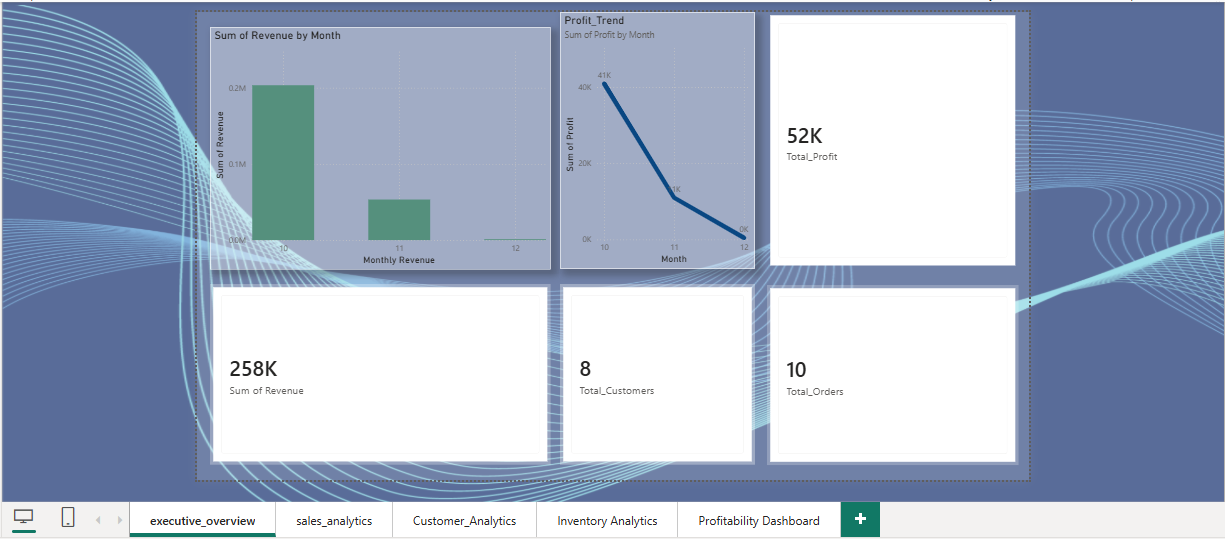

The page's visual inventory and layout, read from the dashboard file:
{"tool":"powerbi","page":{"name":"executive_overview","canvas":[1280,720],"ordinal":0},"visuals":[{"type":"clusteredColumnChart","fields":{"Category":["monthly_sales.Month"],"Y":["Sum(monthly_sales.Revenue)"]},"box":[20,22.9,524.3,372.9],"z":0},{"type":"lineChart","title":"Profit_Trend","fields":{"Category":["monthly_profit.Month"],"Y":["Sum(monthly_profit.Profit)"]},"box":[559,0,300,395.1],"z":5000},{"type":"cardVisual","fields":{"Data":["Sum(total_profit.Total_Profit)"]},"box":[877,0,387,395],"z":5001},{"type":"cardVisual","fields":{"Data":["Sum(total_orders.Total_Orders)"]},"box":[877,420,387,277],"z":5002},{"type":"cardVisual","fields":{"Data":["Sum(total_customers.Total_Customers)"]},"box":[559,418,300,278],"z":5003},{"type":"cardVisual","fields":{"Data":["Sum(monthly_sales.Revenue)"]},"box":[20,418,524,278],"z":5004}]}

Visuals, with their boxes on the page's 1280x720 design canvas (x1, y1, x2, y2). These are canvas units, not pixel positions in the 1225x539 screenshot, which may show the page scaled, cropped or inside an application window:
clusteredColumnChart - monthly_sales.Month x Sum(monthly_sales.Revenue): (x1=20, y1=23, x2=544, y2=396)
"Profit_Trend" lineChart: (x1=559, y1=0, x2=859, y2=395)
cardVisual - Sum(total_profit.Total_Profit): (x1=877, y1=0, x2=1264, y2=395)
cardVisual - Sum(total_orders.Total_Orders): (x1=877, y1=420, x2=1264, y2=697)
cardVisual - Sum(total_customers.Total_Customers): (x1=559, y1=418, x2=859, y2=696)
cardVisual - Sum(monthly_sales.Revenue): (x1=20, y1=418, x2=544, y2=696)
